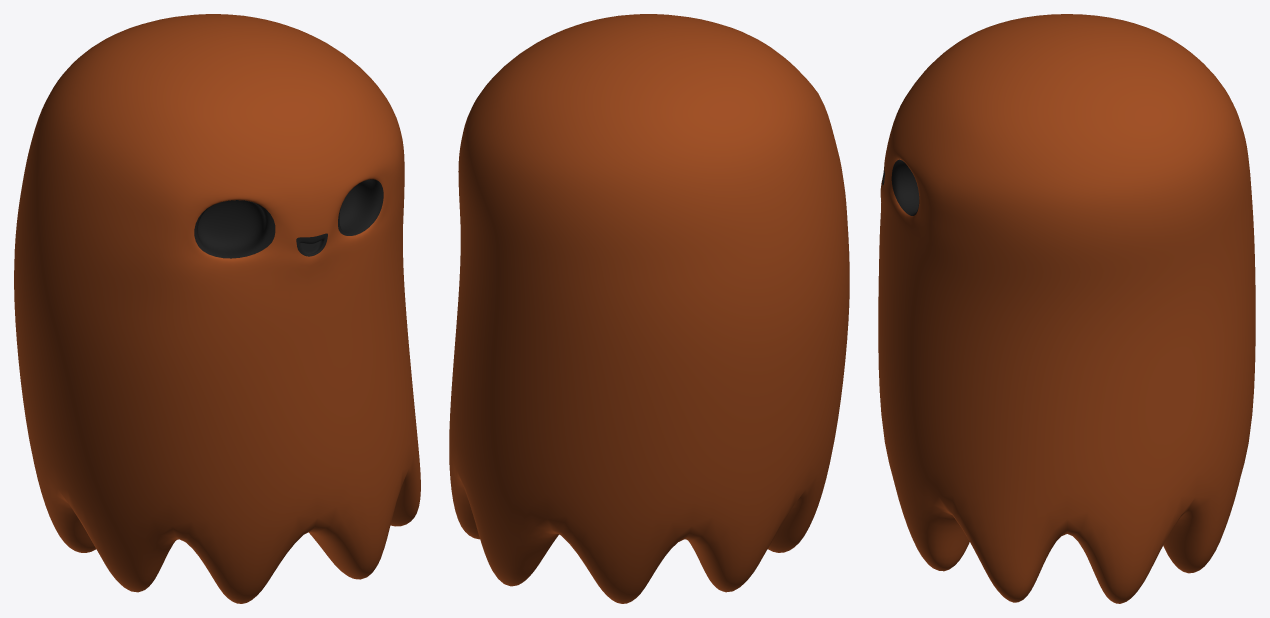
File: boo.glb
3 renders of one model, left to right at view 1: azimuth 30°, elevation 25°; view 2: azimuth 150°, elevation 25°; view 3: azimuth 270°, elevation 25°, orthographic. The views are drawn at different scales.
Parts seen in each view (by area): view 1: xelou3; view 2: xelou3; view 3: xelou3.
Boxes of the visible parts, x1,y1,x2,y2 form: xelou3: [14, 14, 420, 603]; xelou3: [449, 14, 849, 603]; xelou3: [878, 14, 1255, 603].
Size of the model in its own units: 0.9012 by 1.27 by 0.8719.
